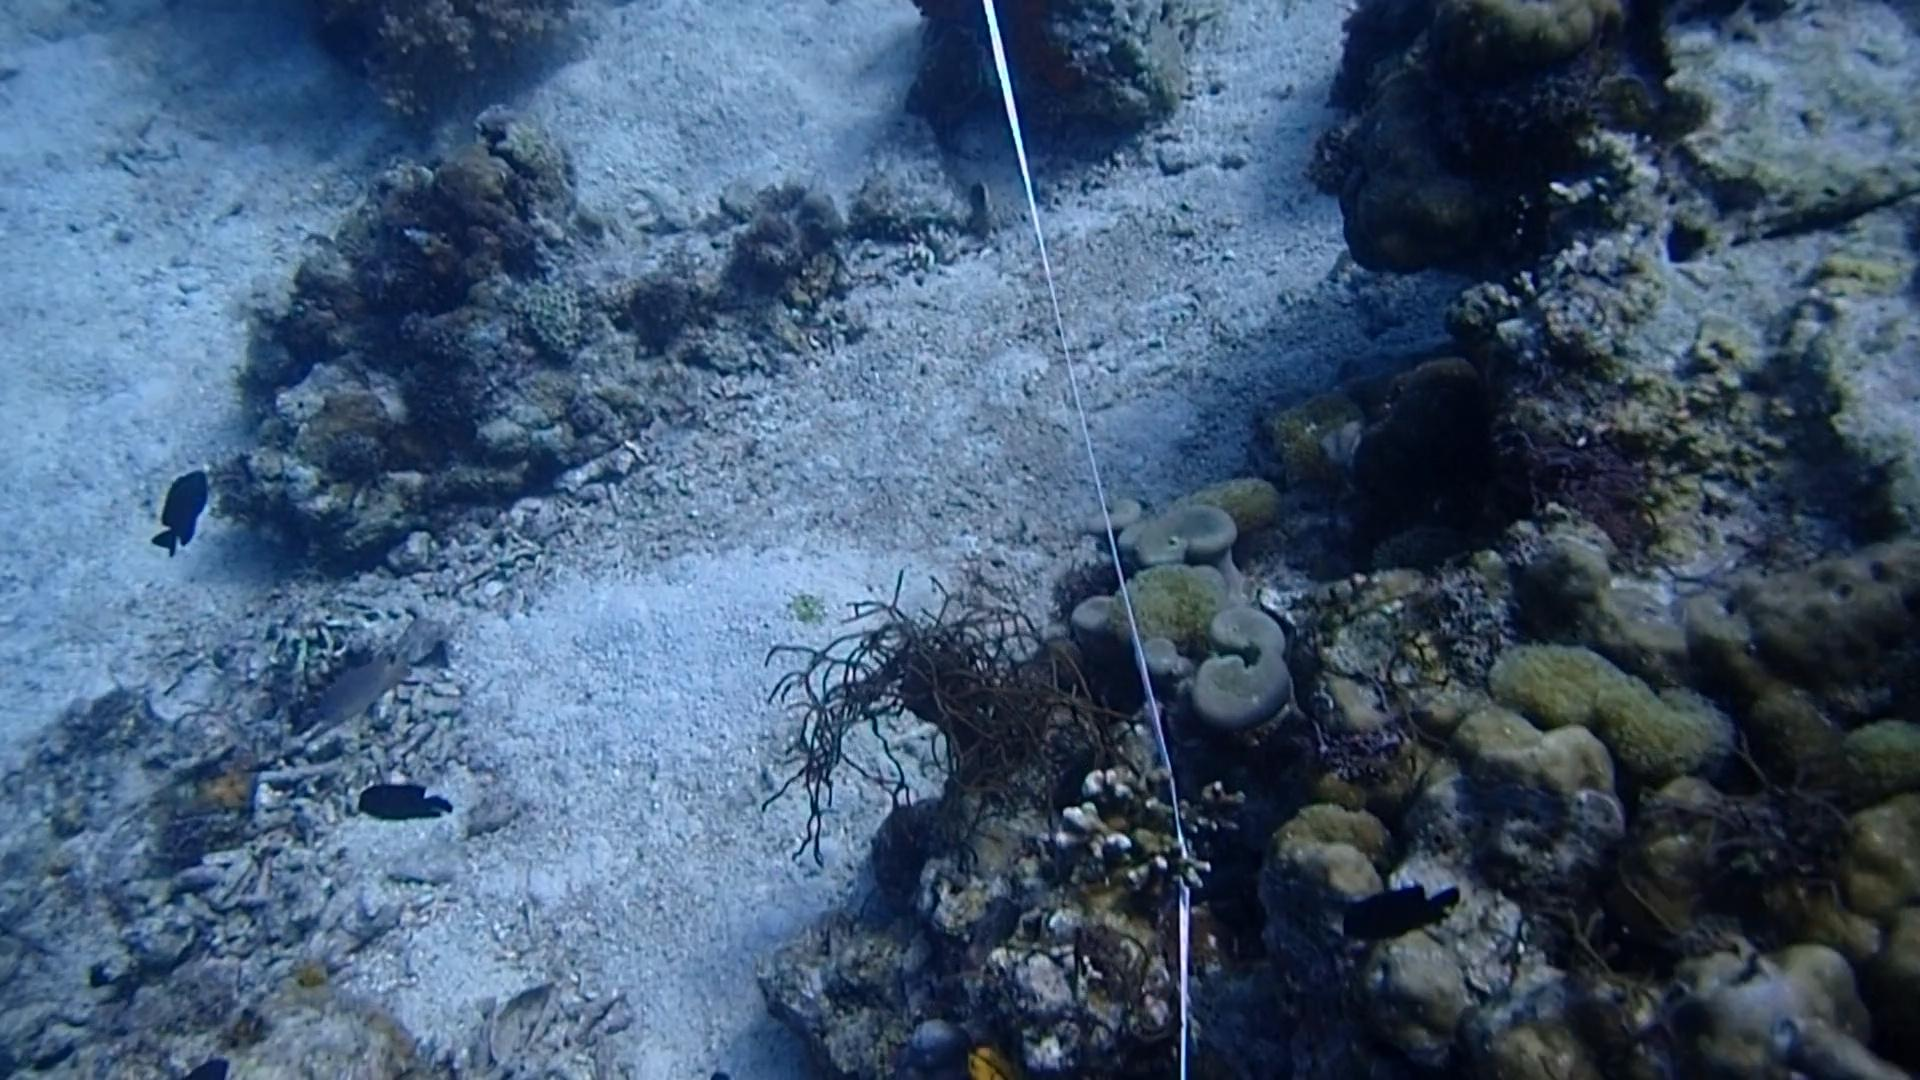Dark Fish: (145, 459, 219, 568), (352, 778, 462, 836)
Light Fish: (307, 650, 417, 732)
